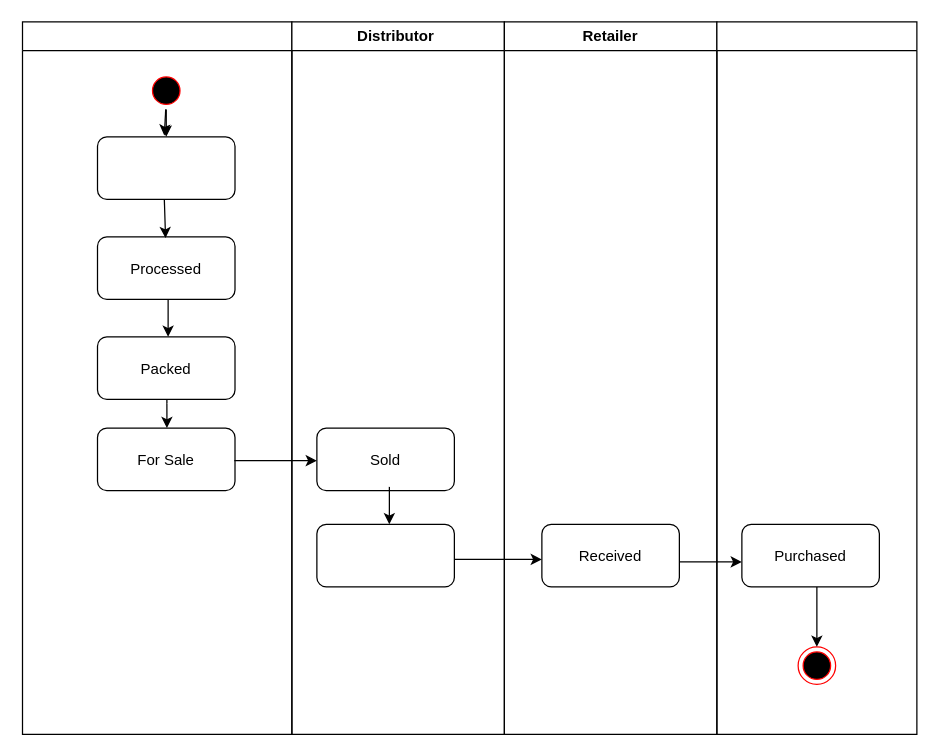
This 939x756 diagram has some shape labels left out. Each missing label, with the box of its shape:
Customer: (716, 21, 917, 734)
Farmer: (21, 21, 292, 734)
Harvested: (96, 136, 235, 199)
Shipped: (316, 523, 454, 587)
